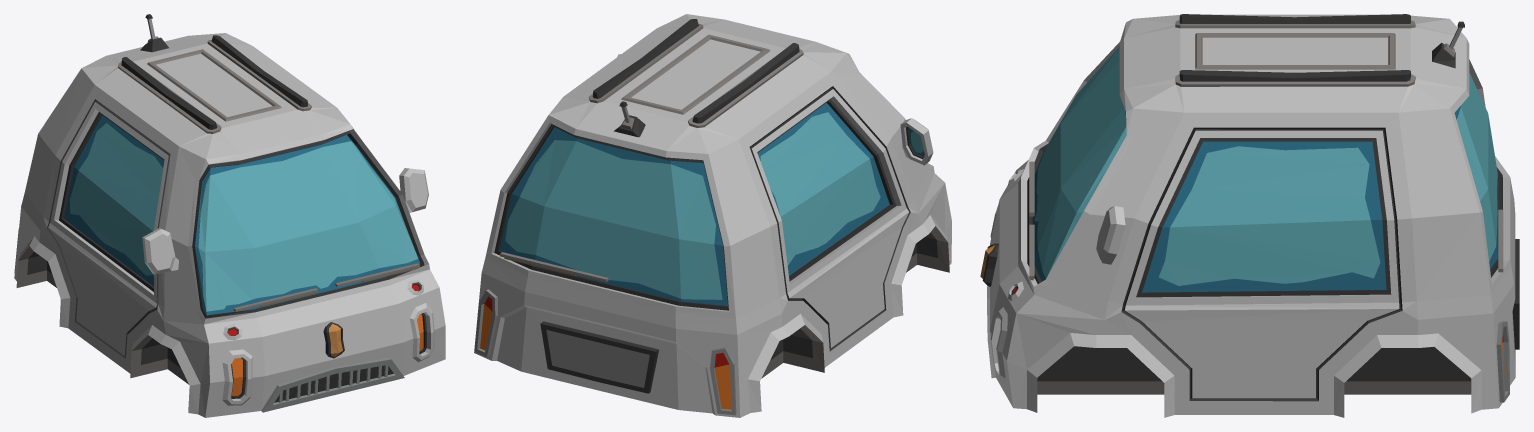
File: Car_C_01.FBX
3 views of the same model, side by side, from view 1: azimuth 30°, elevation 25°; view 2: azimuth 150°, elevation 25°; view 3: azimuth 270°, elevation 25° (orthographic). The views are drawn at different scales.
Parts seen in each view (by area): view 1: Car_C_01; view 2: Car_C_01; view 3: Car_C_01.
Part boxes in pixels (box(x1,y1,x2,y2)): Car_C_01: box(14, 14, 445, 417); Car_C_01: box(474, 14, 951, 417); Car_C_01: box(980, 14, 1519, 417).
Bounding box in the file's own units: 2.79 × 2.31 × 3.63.
